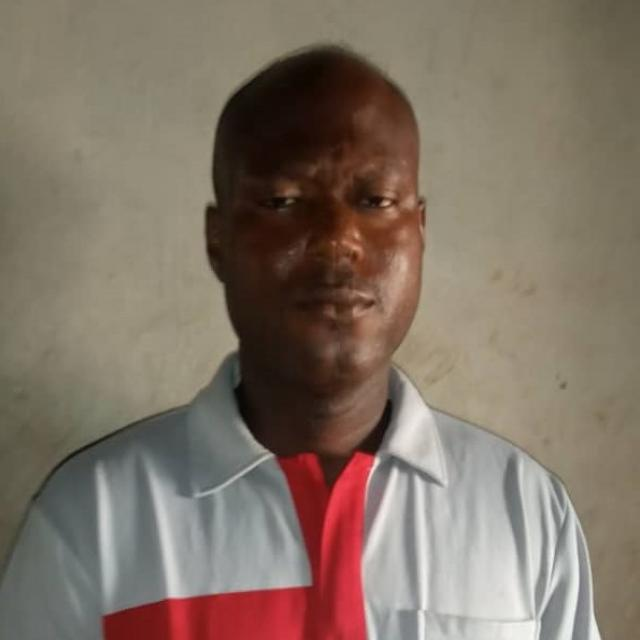sad: (200, 41, 435, 390)
